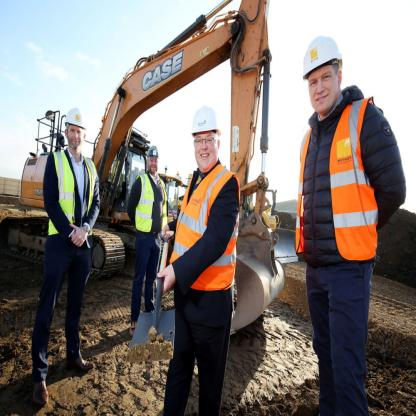person: (290, 16, 408, 414), (179, 90, 253, 416), (33, 97, 98, 401), (127, 122, 168, 338)
